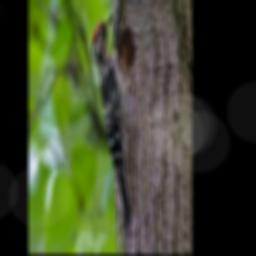Woodpecker: (92, 12, 135, 234)
